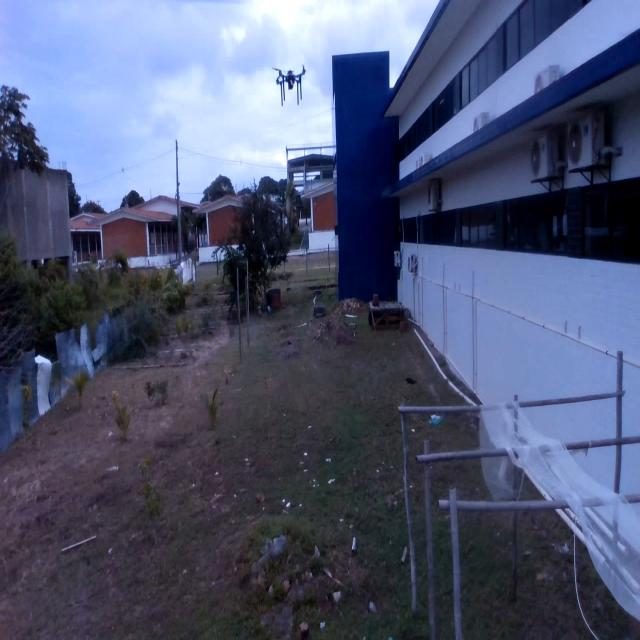-uav-: (265, 61, 313, 116)
